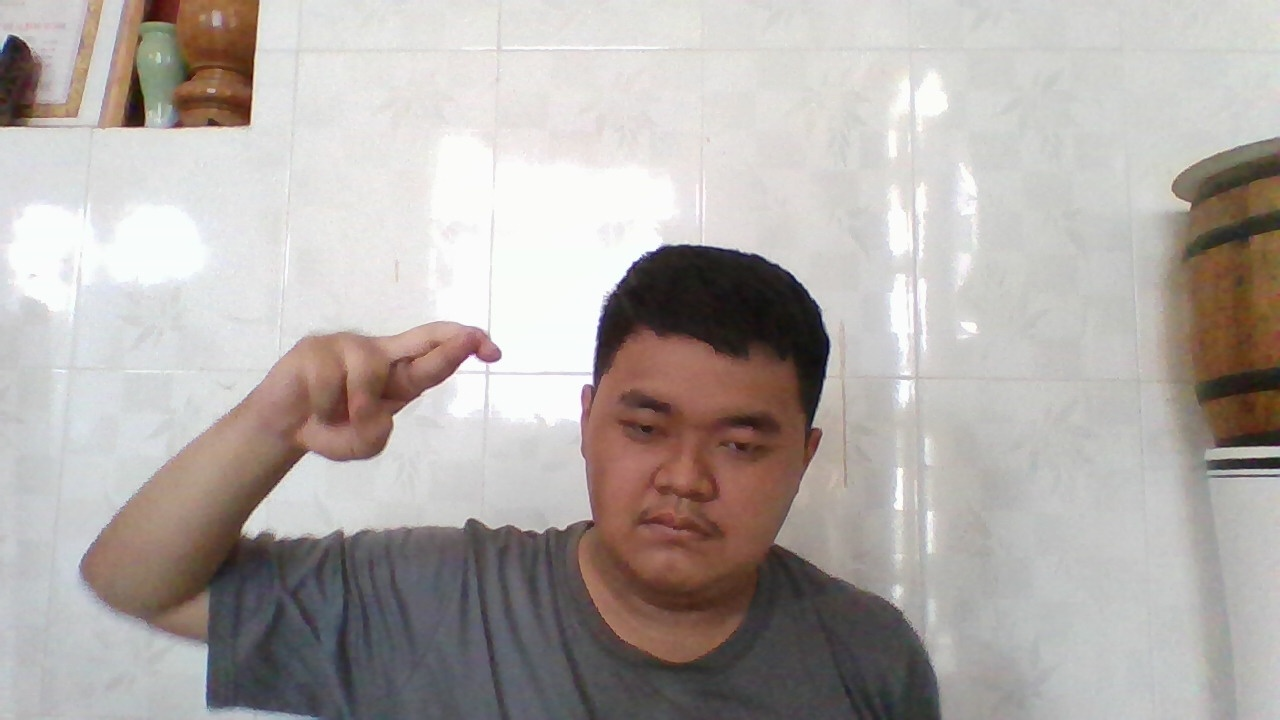R: (264, 317, 500, 464)
